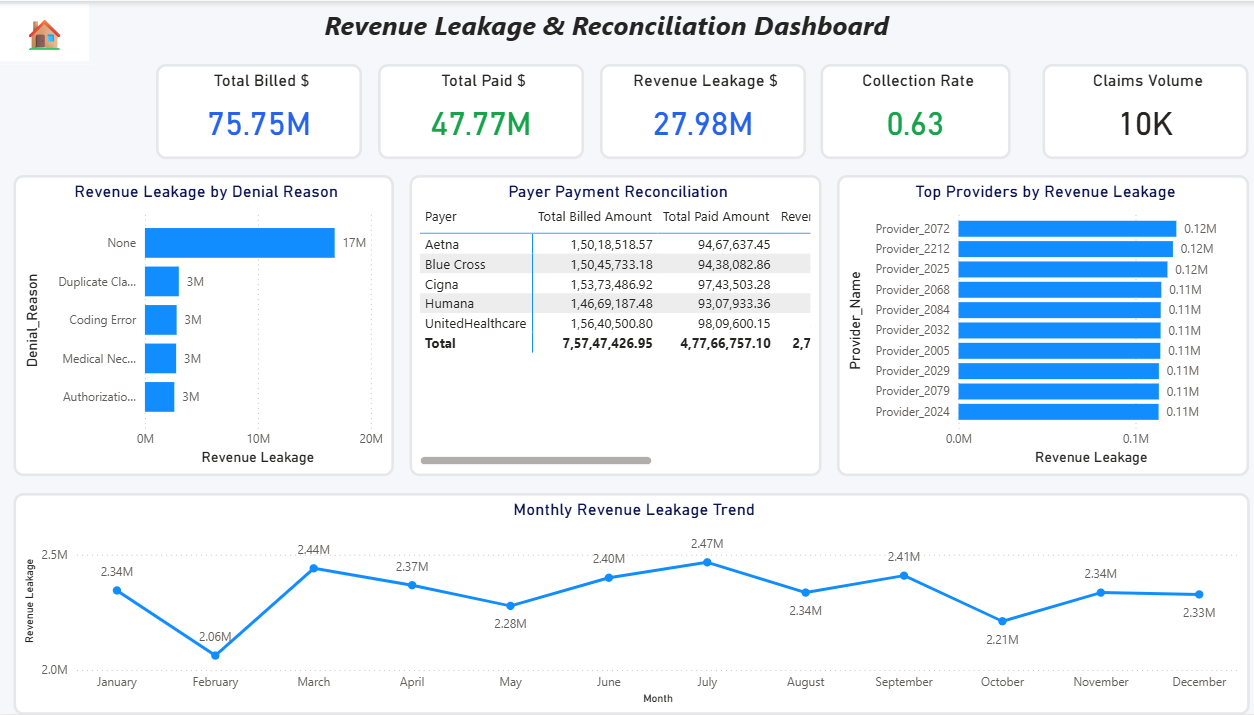

Layout of this report page (visuals, bound fields, positions):
{"tool":"powerbi","page":{"name":"Revenue Leakage & Reconciliation","canvas":[1280,720],"ordinal":4},"visuals":[{"type":"textbox","box":[320,0,592,48],"z":0},{"type":"card","title":"Total Billed $","fields":{"Values":["Claims_Fact.Total Billed Amount"]},"box":[160,64,208,96],"z":1000},{"type":"card","title":"Total Paid $","fields":{"Values":["Claims_Fact.Total Paid Amount"]},"box":[384,64,208,96],"z":2000},{"type":"card","title":"Revenue Leakage $","fields":{"Values":["Claims_Fact.Revenue Leakage"]},"box":[608,64,208,96],"z":3000},{"type":"card","title":"Collection Rate","fields":{"Values":["Claims_Fact.Collection Rate %"]},"box":[832,64,192,96],"z":4000},{"type":"card","title":"Claims Volume","fields":{"Values":["Claims_Fact.Total Claims"]},"box":[1056,64,208,96],"z":5000},{"type":"clusteredBarChart","title":"Revenue Leakage by Denial Reason","fields":{"Category":["Claims_Fact.Denial_Reason"],"Y":["Claims_Fact.Revenue Leakage"]},"box":[16,176,384,304],"z":6000},{"type":"pivotTable","title":"Payer Payment Reconciliation","fields":{"Rows":["Claims_Fact.Payer"],"Values":["Claims_Fact.Total Billed Amount","Claims_Fact.Total Paid Amount","Claims_Fact.Revenue Leakage","Claims_Fact.Collection Rate %"]},"box":[416,176,416,304],"z":7000},{"type":"clusteredBarChart","title":"Top Providers by Revenue Leakage","fields":{"Y":["Claims_Fact.Revenue Leakage"],"Category":["Provider_Master.Provider_Name"]},"box":[848,176,416,304],"z":8000},{"type":"lineChart","title":"Monthly Revenue Leakage Trend","fields":{"Category":["Claims_Fact.Service_Date.Variation.Date Hierarchy.Month"],"Y":["Claims_Fact.Revenue Leakage"]},"box":[16,496,1248,224],"z":9000},{"type":"actionButton","box":[0,0,96,64],"z":10000}]}

Visuals, with their boxes in screenshot pixels (x1, y1, x2, y2), scaled from the page's 1280x720 canvas onto the 1254x715 screenshot:
textbox: (314,0,893,48)
"Total Billed $" card: (157,64,361,159)
"Total Paid $" card: (376,64,580,159)
"Revenue Leakage $" card: (596,64,799,159)
"Collection Rate" card: (815,64,1003,159)
"Claims Volume" card: (1035,64,1238,159)
"Revenue Leakage by Denial Reason" clusteredBarChart: (16,175,392,477)
"Payer Payment Reconciliation" pivotTable: (408,175,815,477)
"Top Providers by Revenue Leakage" clusteredBarChart: (831,175,1238,477)
"Monthly Revenue Leakage Trend" lineChart: (16,493,1238,714)
actionButton: (0,0,94,64)
